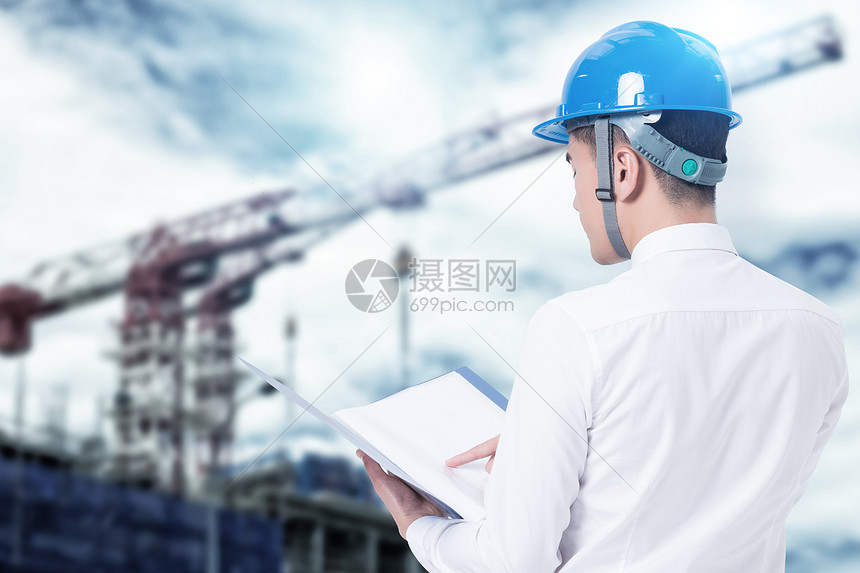safetyhat: (437, 1, 854, 552)
